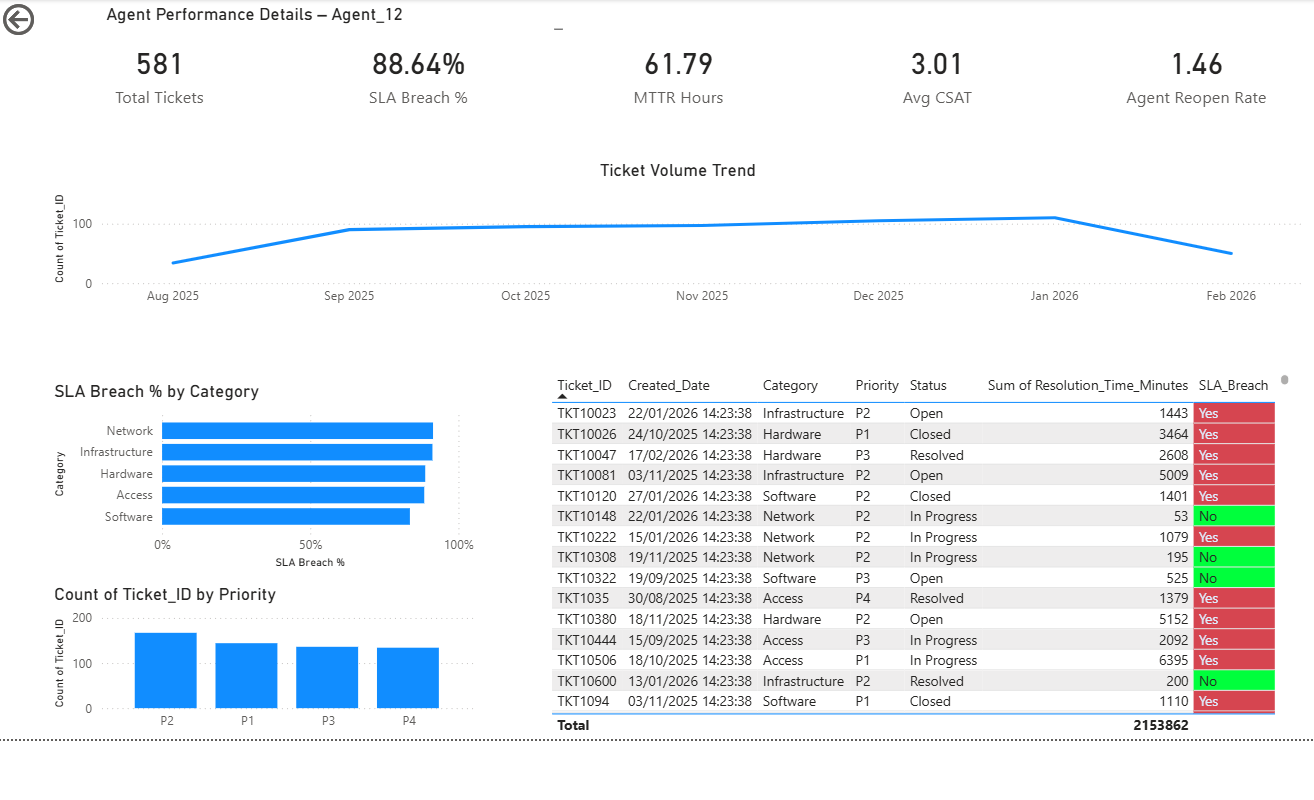

The page's visual inventory and layout, read from the dashboard file:
{"tool":"powerbi","page":{"name":"Agent Detail","canvas":[1280,720],"ordinal":3},"visuals":[{"type":"actionButton","box":[0,0,100,40],"z":0},{"type":"card","fields":{"Values":["Tickets.Total Tickets"]},"box":[49.6,8.8,215,124.5],"z":1},{"type":"card","fields":{"Values":["Tickets.SLA Breach %"]},"box":[301.8,8.8,215,124.5],"z":2},{"type":"card","fields":{"Values":["Tickets.MTTR Hours"]},"box":[553.9,8.8,215,124.5],"z":3},{"type":"card","fields":{"Values":["Tickets.Avg CSAT"]},"box":[806.1,8.8,215,124.5],"z":4},{"type":"card","fields":{"Values":["Tickets.Agent Reopen Rate"]},"box":[1058.2,8.8,215,124.5],"z":5},{"type":"lineChart","title":"Ticket Volume Trend","fields":{"Category":["Tickets.Month Year"],"Y":["CountNonNull(Tickets.Ticket_ID)"]},"box":[49.6,156.6,1223.6,149.8],"z":6},{"type":"barChart","fields":{"Category":["Tickets.Category"],"Y":["Tickets.SLA Breach %"]},"box":[49.6,371.6,418.2,186.7],"z":7},{"type":"columnChart","fields":{"Category":["Tickets.Priority"],"Y":["CountNonNull(Tickets.Ticket_ID)"]},"box":[49.6,569,418.2,150.8],"z":8},{"type":"tableEx","fields":{"Values":["Tickets.Ticket_ID","Tickets.Created_Date","Tickets.Category","Tickets.Priority","Tickets.Status","Sum(Tickets.Resolution_Time_Minutes)","Tickets.SLA_Breach"]},"box":[533,359.9,727.5,359.9],"z":9},{"type":"actionButton","box":[0,0,100,40],"z":10},{"type":"textbox","box":[100.2,4.9,454.2,30.2],"z":11}]}

Visuals, with their boxes on the page's 1280x720 design canvas (x1, y1, x2, y2). These are canvas units, not pixel positions in the 1314x800 screenshot, which may show the page scaled, cropped or inside an application window:
actionButton: pyautogui.locateOnScreen(0, 0, 100, 40)
card - Tickets.Total Tickets: pyautogui.locateOnScreen(50, 9, 265, 133)
card - Tickets.SLA Breach %: pyautogui.locateOnScreen(302, 9, 517, 133)
card - Tickets.MTTR Hours: pyautogui.locateOnScreen(554, 9, 769, 133)
card - Tickets.Avg CSAT: pyautogui.locateOnScreen(806, 9, 1021, 133)
card - Tickets.Agent Reopen Rate: pyautogui.locateOnScreen(1058, 9, 1273, 133)
"Ticket Volume Trend" lineChart: pyautogui.locateOnScreen(50, 157, 1273, 306)
barChart - Tickets.Category x Tickets.SLA Breach %: pyautogui.locateOnScreen(50, 372, 468, 558)
columnChart - Tickets.Priority x CountNonNull(Tickets.Ticket_ID): pyautogui.locateOnScreen(50, 569, 468, 720)
tableEx - Tickets.Ticket_ID x Tickets.Created_Date: pyautogui.locateOnScreen(533, 360, 1260, 720)
actionButton: pyautogui.locateOnScreen(0, 0, 100, 40)
textbox: pyautogui.locateOnScreen(100, 5, 554, 35)
